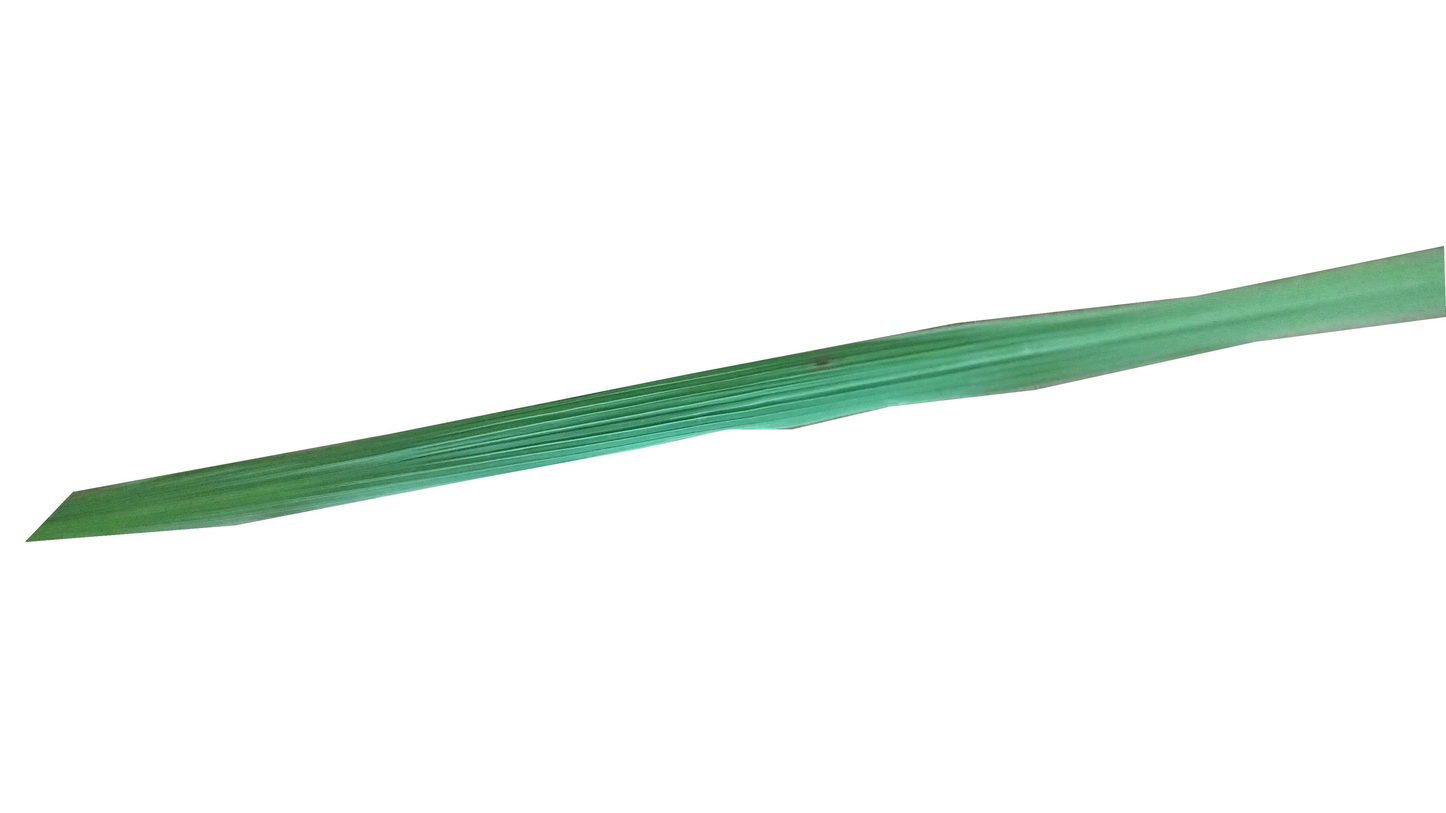Brown spot: (808, 353, 840, 376)
